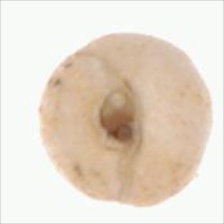L3: (94, 85, 142, 154)
L4: (40, 32, 213, 208)
